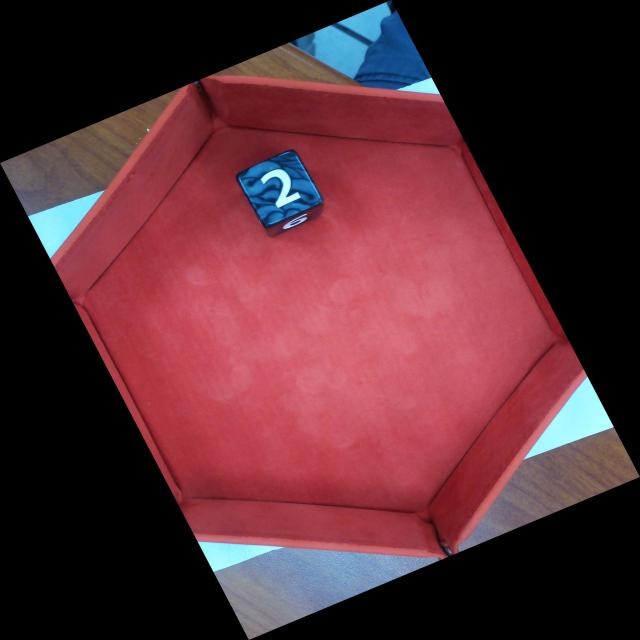dice: (236, 150, 324, 228)
